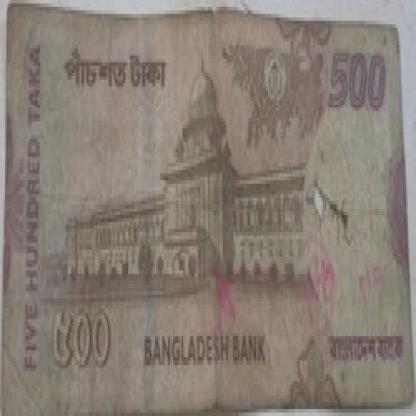500 taka: (326, 31, 401, 139), (54, 48, 176, 111), (42, 298, 124, 375)
currency: (5, 10, 411, 399)
